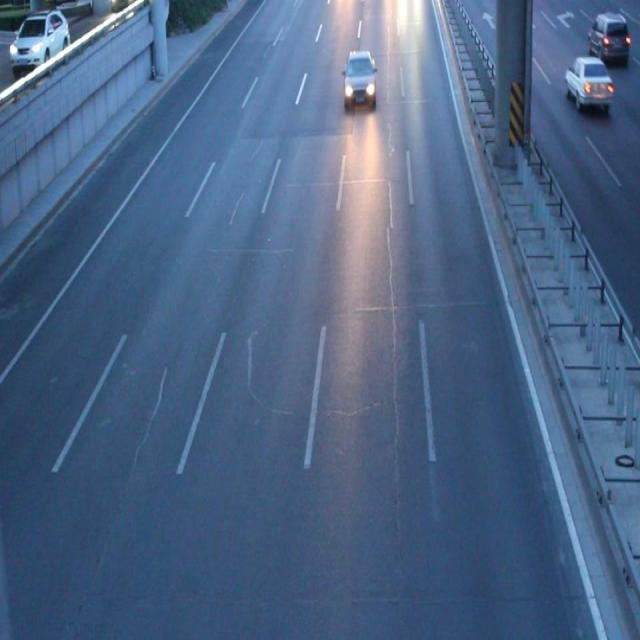car: (343, 51, 376, 108)
